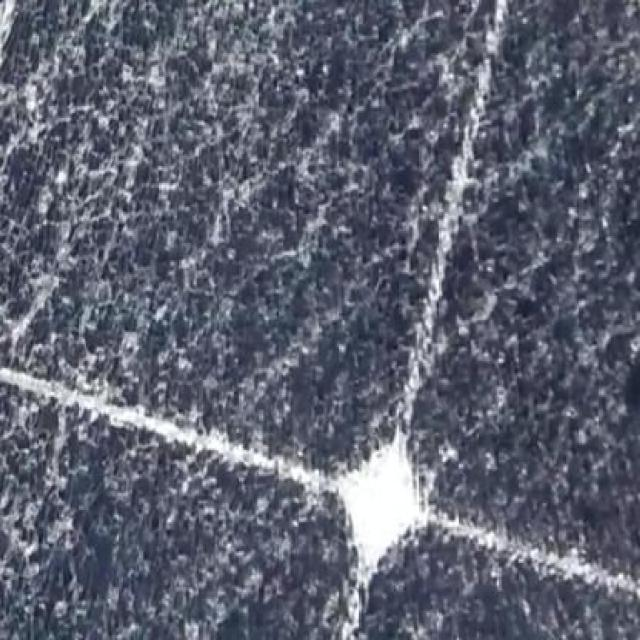cracked: (0, 1, 636, 637)
